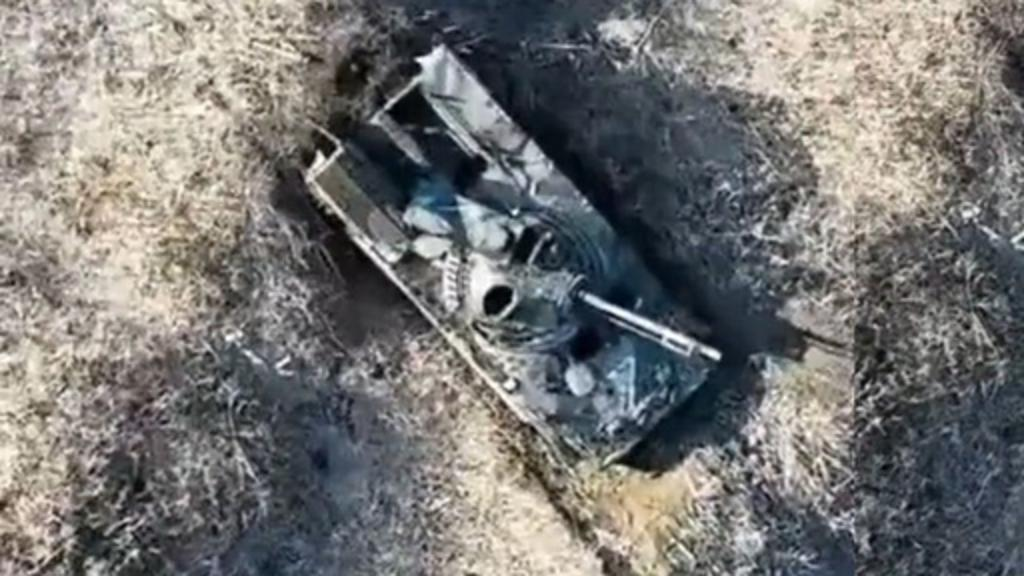APC-IFV: (288, 38, 726, 490)
